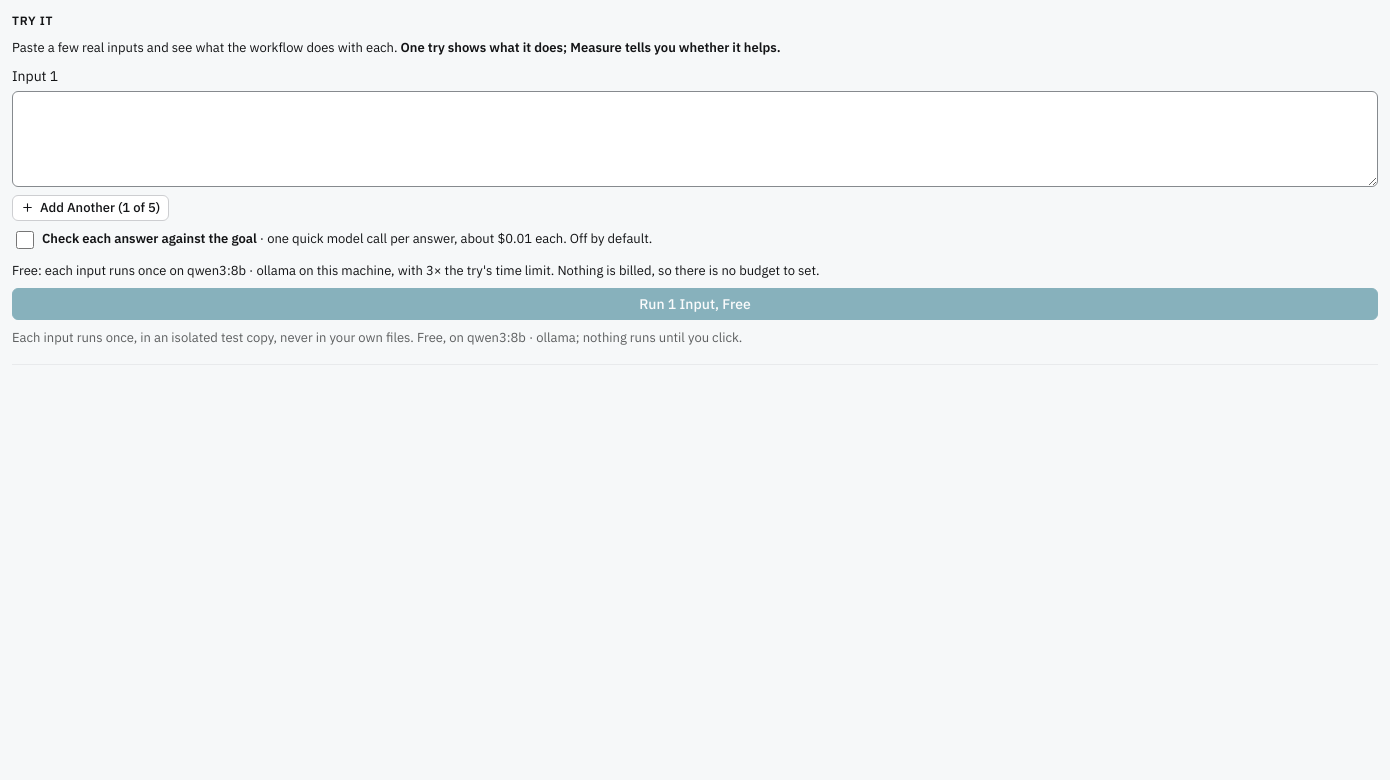
it: a Lab workflow on a local model is tried for free; checking each answer is priced and capped
The width and height of the screenshot is (1390, 780).
Expected: the text with test id "try-price-local" shows "Free: each input runs once on qwen3:8b · ollama on this machine, with 3× the try's time limit.", left=12, top=262, right=820, bottom=278
Expected: the field labelled "Stop this try at (USD)" is not shown
What coordinates should you click on to do the following:
click the checkbox labelled "Check each answer against the goal"
I would click on:
 (25, 240)
Its box is left=16, top=230, right=34, bottom=248.
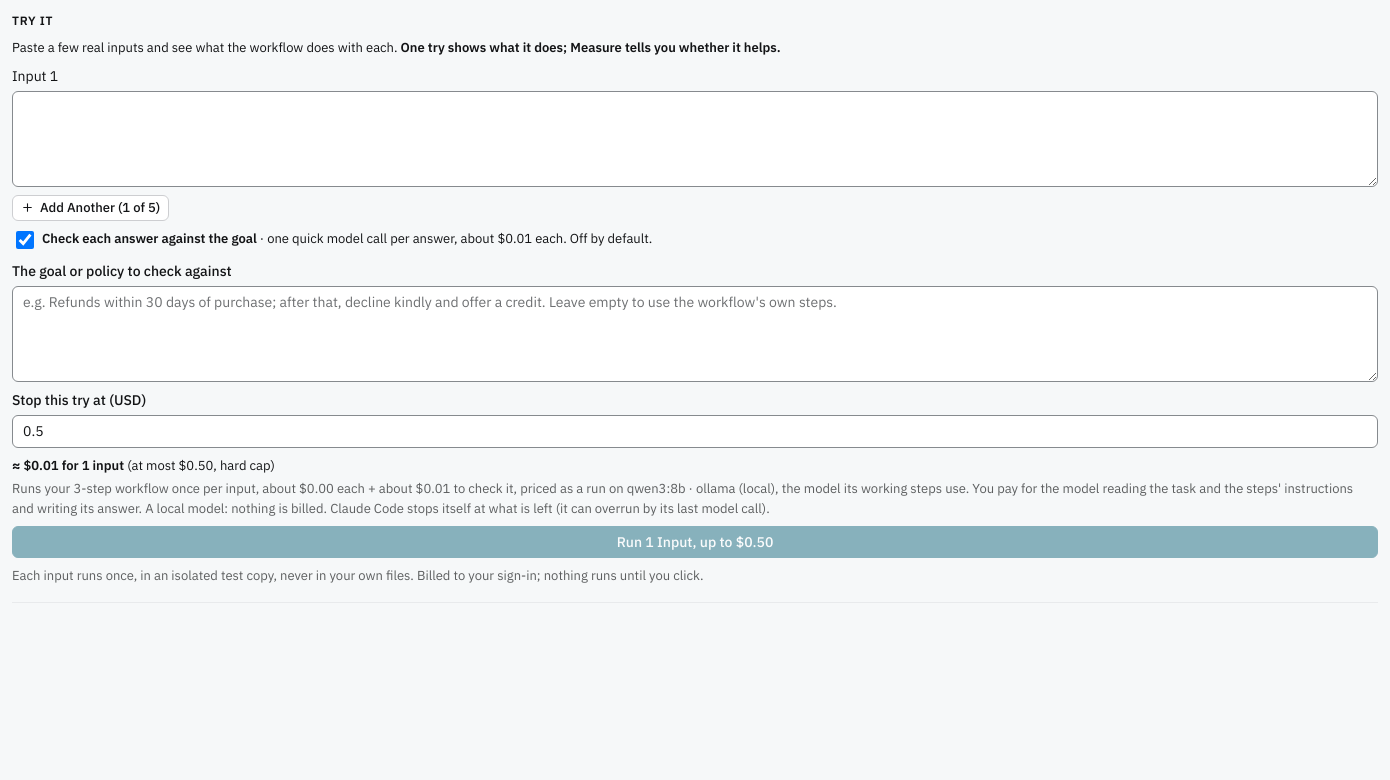
Expected: the number field labelled "Stop this try at (USD)" is shown, left=12, top=414, right=1378, bottom=448
Expected: the button "Run 1 Input, up to $0.50" is shown, left=12, top=526, right=1378, bottom=558
